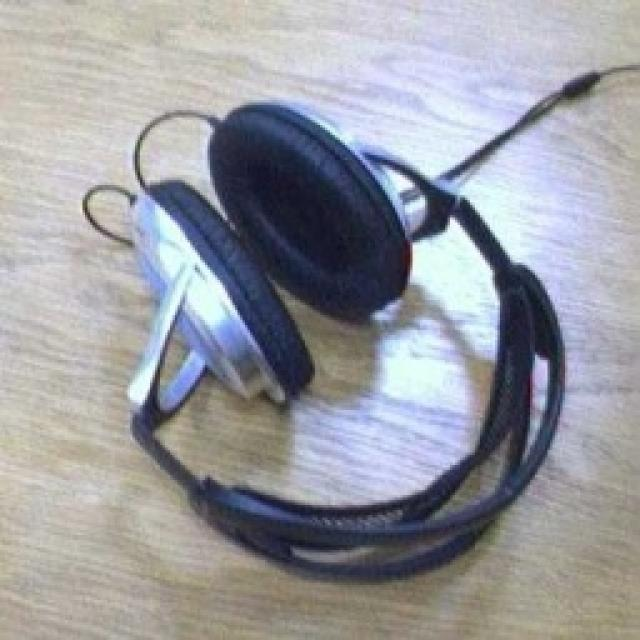headphones: (122, 95, 568, 580)
